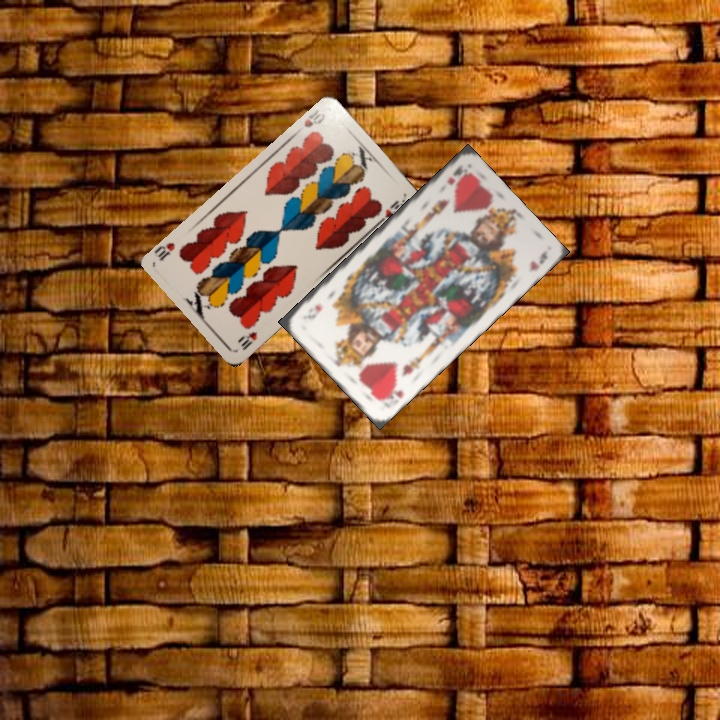H10: (300, 106, 328, 130), (234, 328, 260, 353)
HK: (376, 380, 406, 404), (443, 161, 466, 188)
